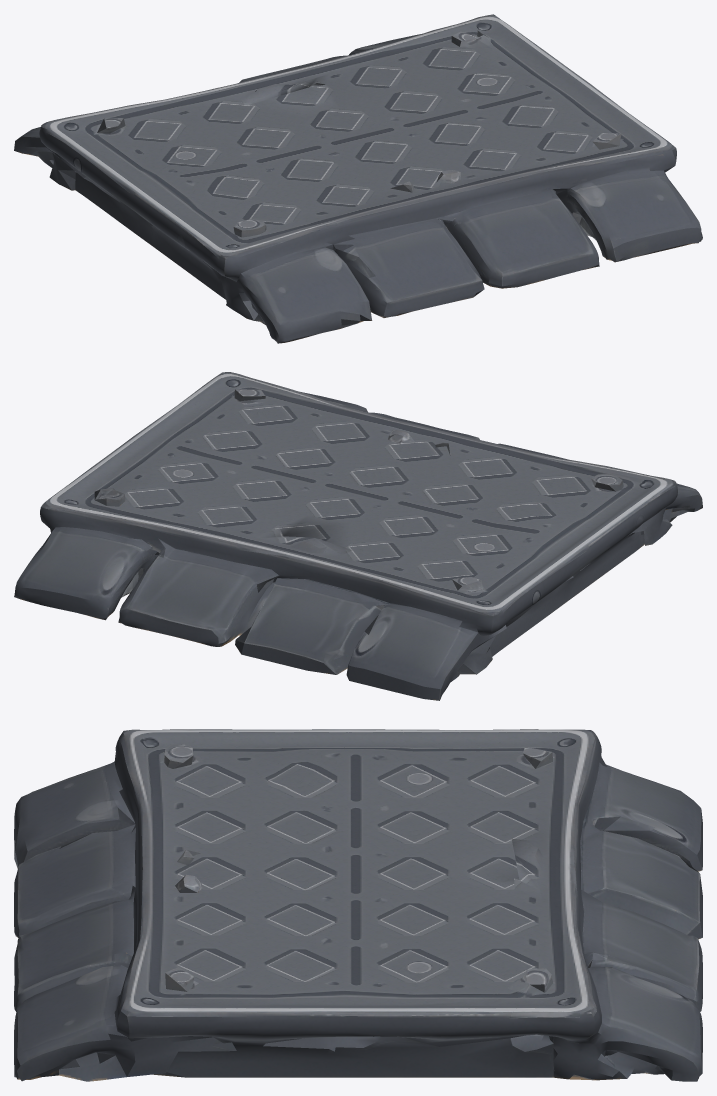
Rendered from walkway_tile.glb.
3 renders of one model, top to bottom at view 1: azimuth 30°, elevation 25°; view 2: azimuth 150°, elevation 25°; view 3: azimuth 270°, elevation 25°, orthographic. The views are drawn at different scales.
Visible parts, largest first — view 1: Mesh_0; view 2: Mesh_0; view 3: Mesh_0.
Part boxes in pixels (x1,y1,x2,y2): Mesh_0: [14, 14, 702, 343]; Mesh_0: [14, 372, 702, 700]; Mesh_0: [14, 729, 702, 1081].
Size of the model in its own units: 1.88 by 0.258 by 1.9.
1 material, 1 textured.
